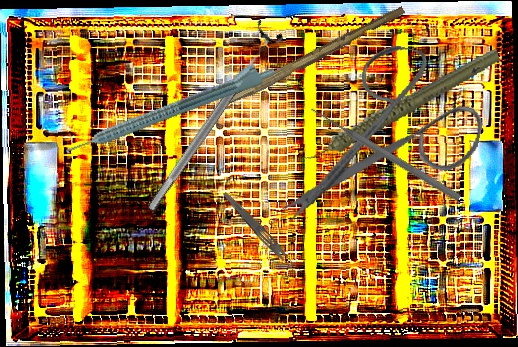Dressing Forceps: (218, 189, 305, 279)
Fixation Ring: (136, 18, 287, 220)
Handpiece: (284, 45, 513, 166), (60, 55, 277, 159)
Iris Scissors: (279, 28, 496, 259)
Pusher: (308, 104, 463, 203)
Scalpel Handle: (226, 1, 406, 111)
